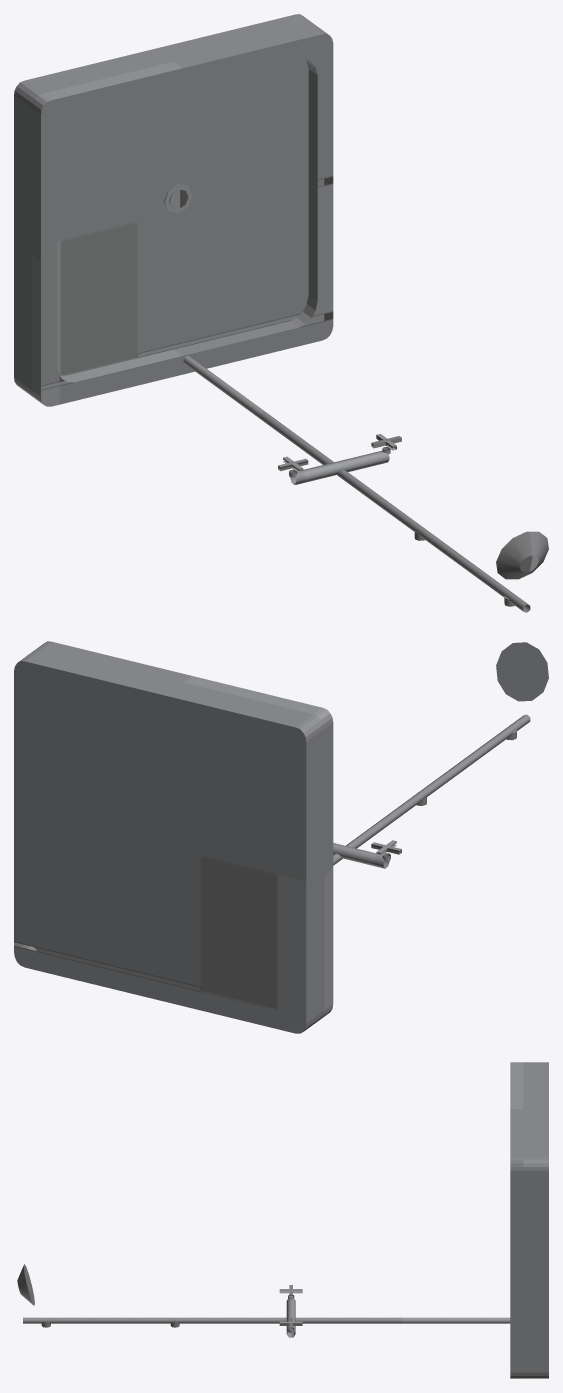
The picture shows the model from 3 angles, top to bottom: view 1: azimuth 30°, elevation 25°; view 2: azimuth 150°, elevation 25°; view 3: azimuth 270°, elevation 25°; orthographic projection. The views are drawn at different scales.
Bounding box in the file's own units: 0.939 × 0.94 × 2.08.
